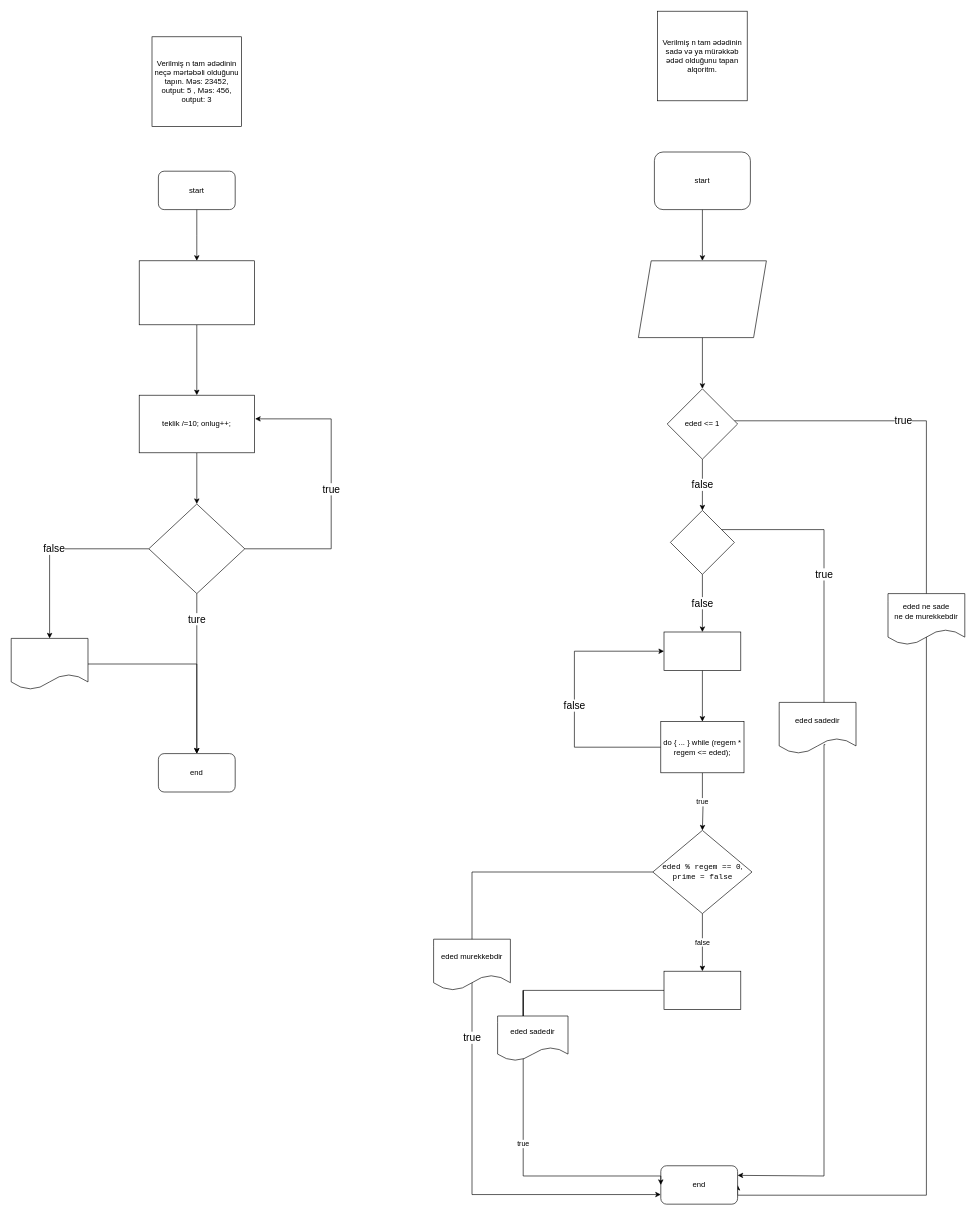
This 976x1215 diagram has some shape labels left out. The centre of each missing label's shape, as x and y in pixels:
"eded <=2" goes at pixel 702 542.
"eded = int.Parse(Console.ReadLine());" goes at pixel 702 299.
"n = int.Parse(Console.ReadLine()); onlug = 0; teklik = n;" goes at pixel 196 292.
"onluq" goes at pixel 49 664.
"regem = 2 prime = true" goes at pixel 702 650.
"regem++" goes at pixel 702 990.
"teklik !=0" goes at pixel 196 548.
